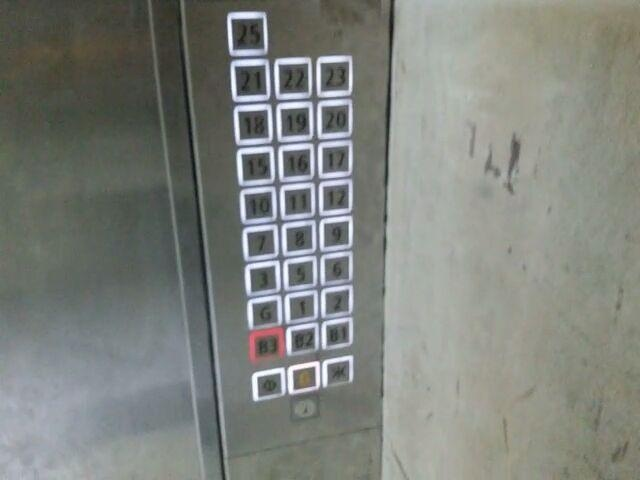1: (281, 287, 319, 326)
10: (237, 184, 278, 225)
11: (277, 180, 316, 221)
12: (316, 177, 354, 217)
15: (234, 144, 276, 187)
16: (275, 141, 315, 183)
17: (315, 138, 354, 180)
18: (231, 101, 274, 147)
19: (274, 99, 315, 143)
2: (318, 282, 355, 321)
20: (314, 97, 354, 140)
21: (228, 56, 271, 103)
22: (271, 54, 313, 101)
23: (313, 52, 355, 99)
25: (223, 7, 271, 58)
3: (242, 258, 282, 298)
5: (280, 253, 318, 292)
6: (318, 248, 354, 288)
7: (240, 222, 280, 263)
8: (279, 218, 317, 258)
9: (317, 213, 354, 253)
B1: (320, 313, 355, 351)
B2: (283, 319, 321, 357)
B3: (247, 324, 285, 362)
G: (244, 291, 283, 331)
alarm: (285, 359, 321, 396)
close: (320, 353, 354, 389)
open: (249, 364, 287, 403)
